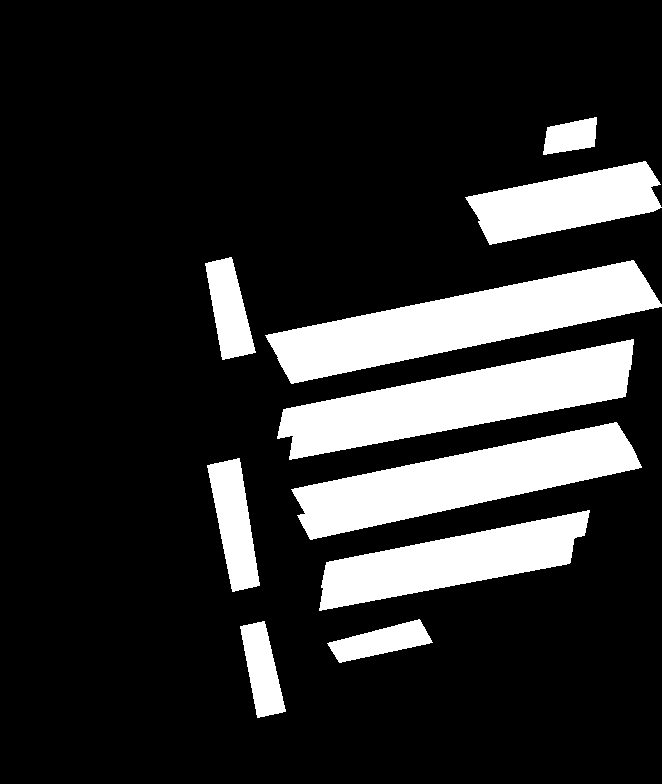parkingspot: (277, 283, 662, 383), (265, 260, 649, 359), (277, 339, 633, 438), (297, 445, 641, 539), (289, 365, 629, 459), (291, 422, 631, 513), (321, 510, 589, 587), (319, 535, 574, 610), (465, 161, 660, 222), (478, 185, 661, 244), (207, 458, 259, 591), (205, 257, 255, 359), (327, 619, 432, 662), (240, 621, 285, 717), (543, 117, 596, 154)
